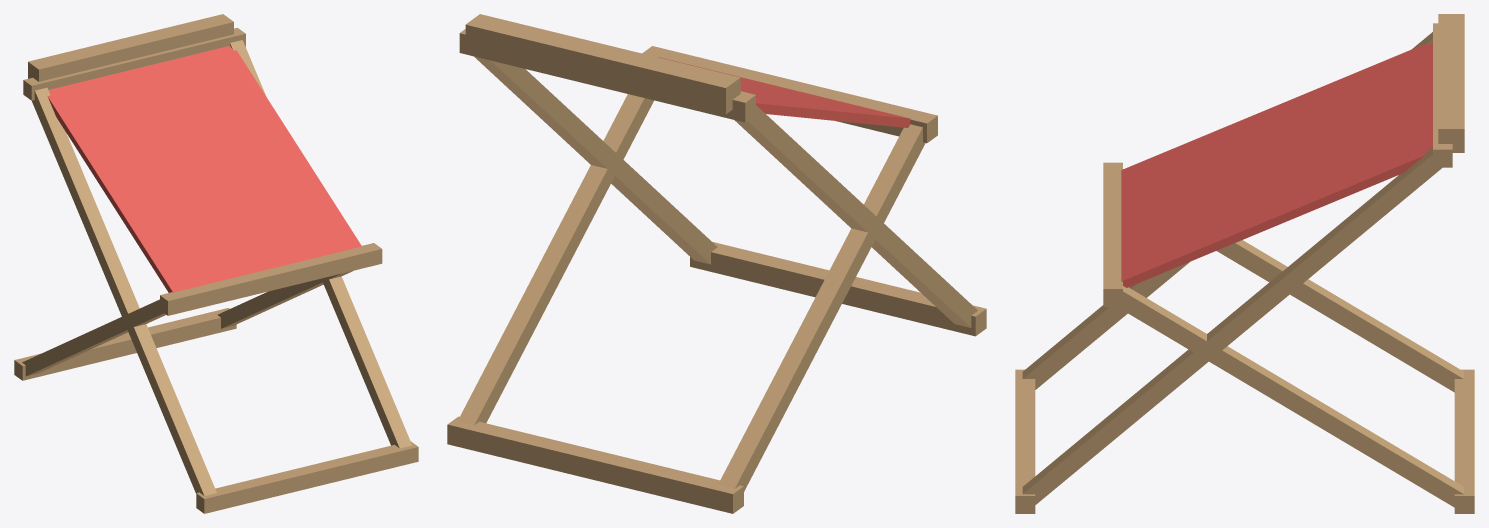
File: deckchair.glb
The picture shows the model from 3 angles, left to right: view 1: azimuth 30°, elevation 25°; view 2: azimuth 150°, elevation 25°; view 3: azimuth 270°, elevation 25°; orthographic projection. The views are drawn at different scales.
Parts seen in each view (by area): view 1: deckchair; view 2: deckchair; view 3: deckchair.
Part boxes in pixels (x1,y1,x2,y2): deckchair: (14,14,418,513); deckchair: (447,14,986,513); deckchair: (1015,14,1474,513).
Bounding box in the file's own units: 0.68 × 0.9525 × 1.04.
